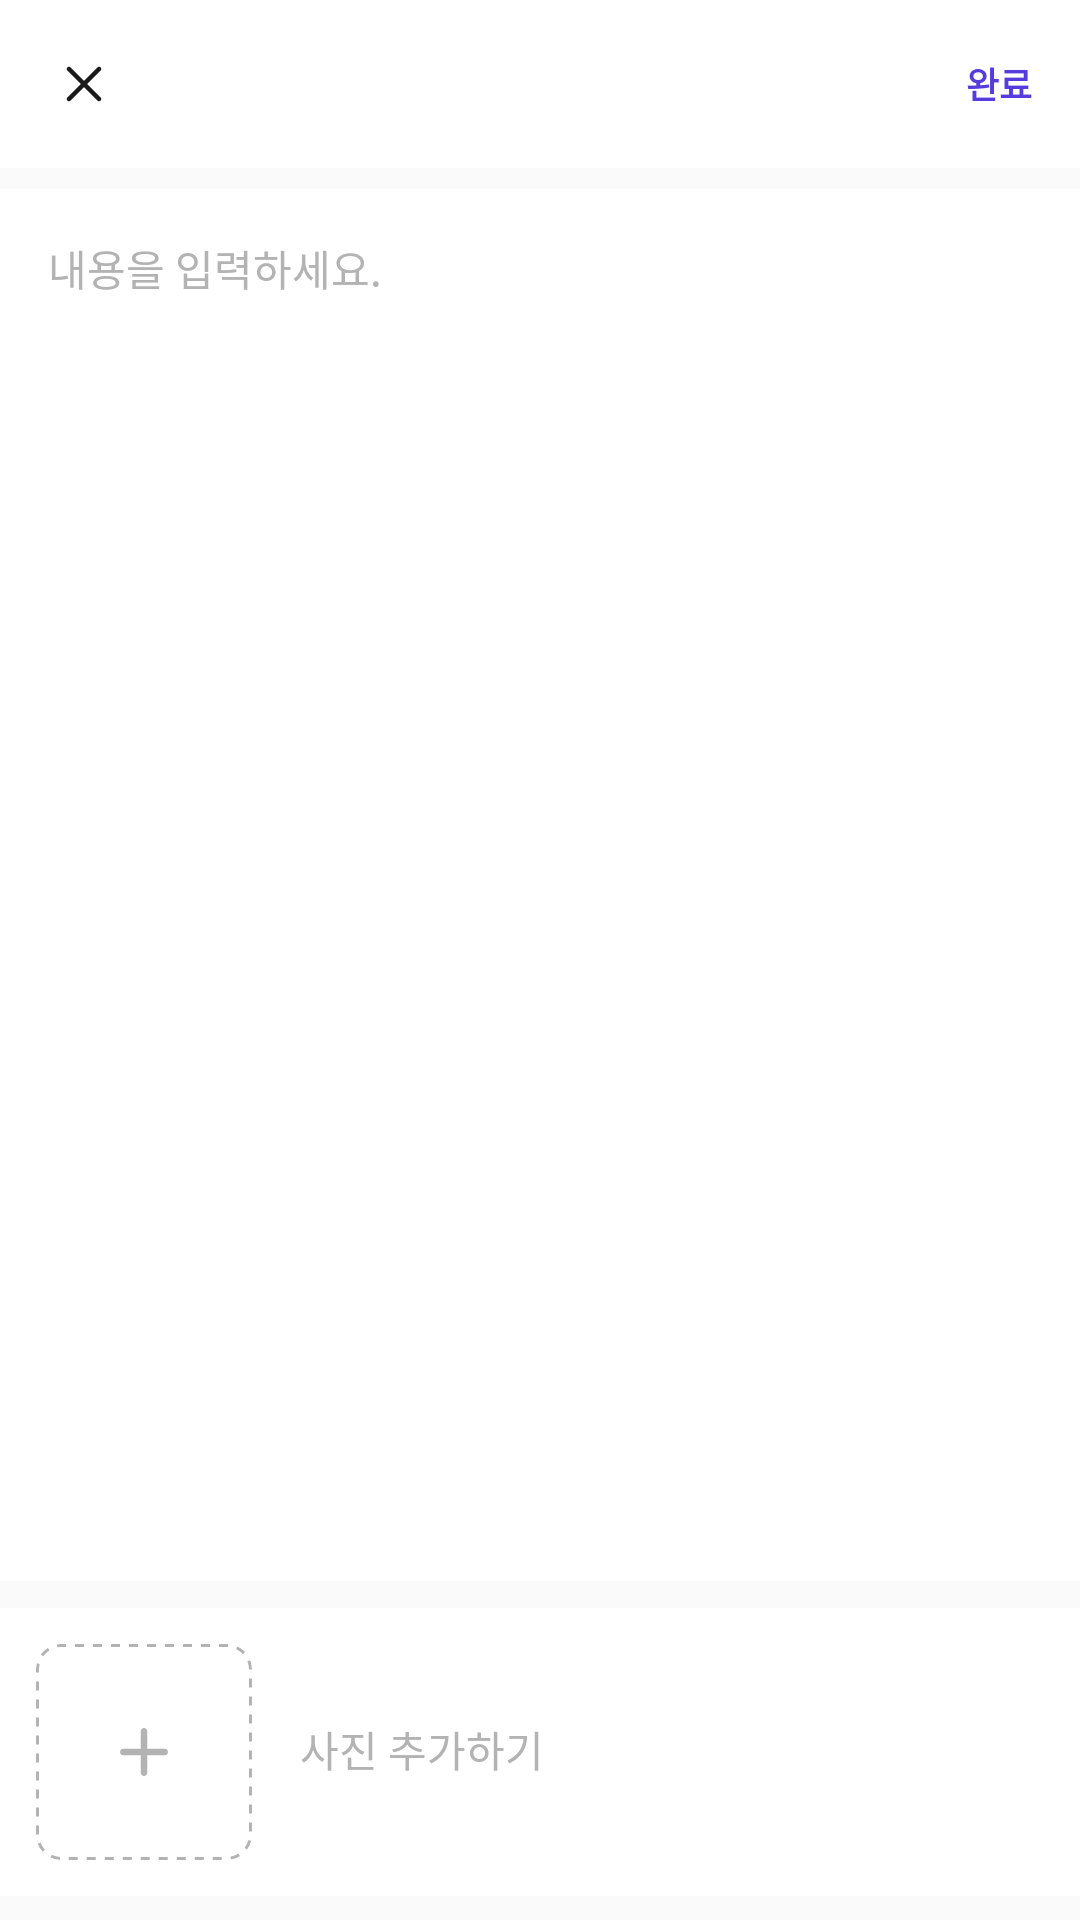

Icon click points for this 1080×1920 phone screenshot, format (x,y):
add: (144,1752)
cancel: (84,84)
